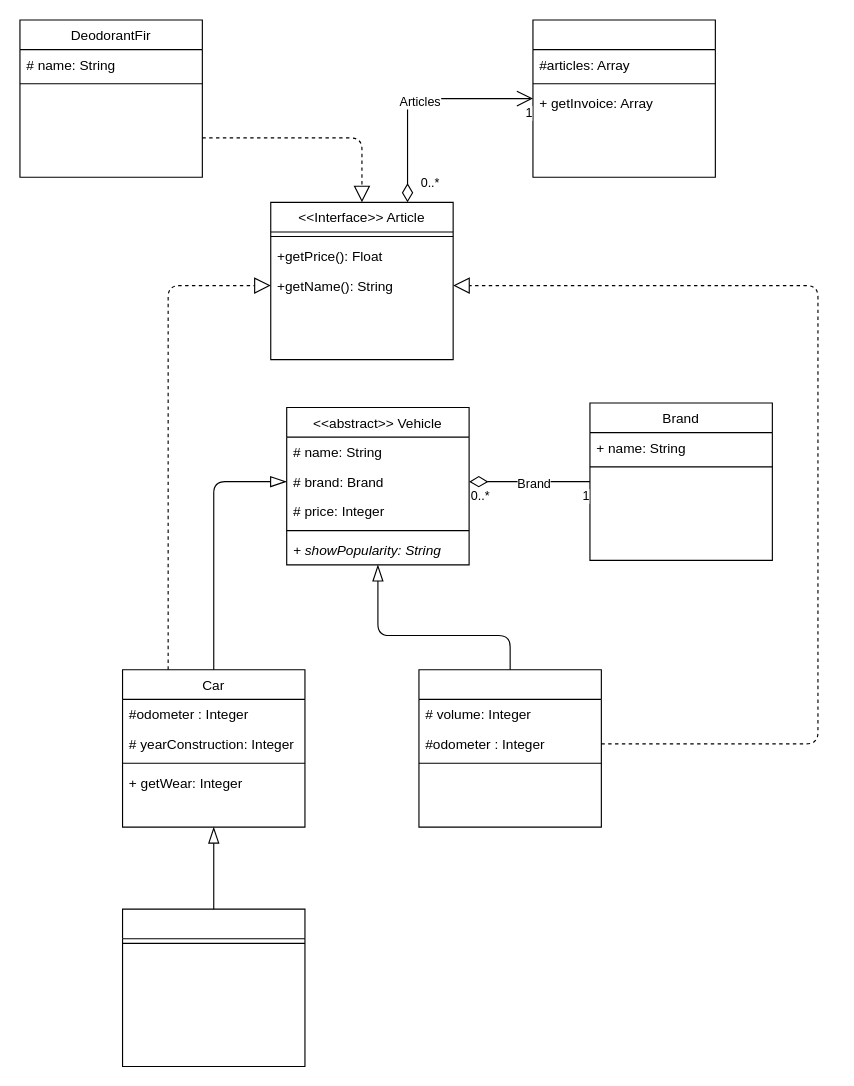
Some shapes in this 854 by 1086 pixel diagram are drawn without their labels. The box of each missing label's shape, as (x1, y1, x2, y2) in pixels:
Cart: (532, 19, 715, 177)
Citadine: (121, 908, 305, 1066)
UtilityVehicle: (418, 669, 601, 827)
